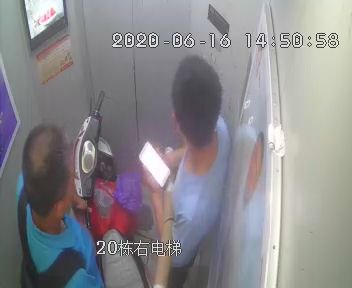Electric-bicycle: (72, 86, 144, 285)
